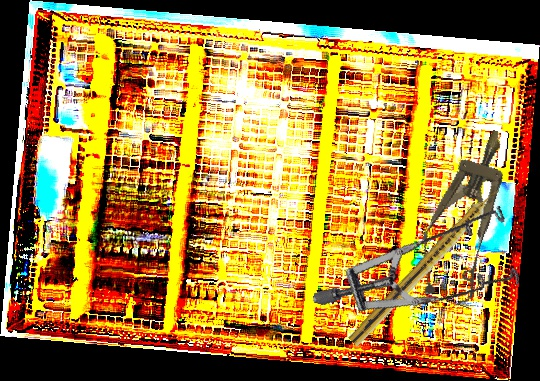Handpiece: (347, 184, 505, 350)
Speculum: (311, 162, 539, 358), (406, 119, 529, 310)
